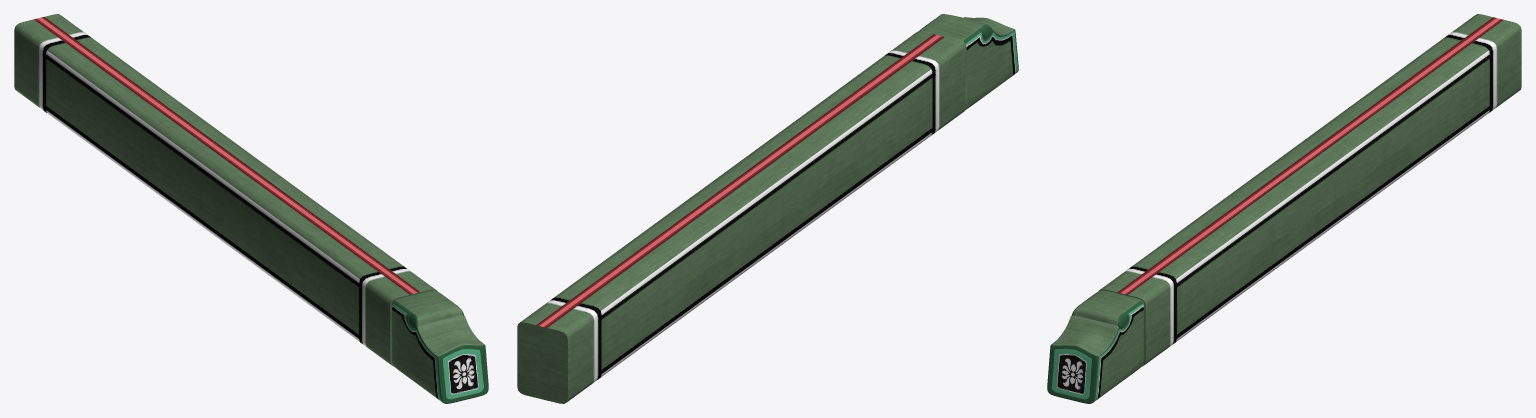
File: SM_SJJ_HG_Beam08A.fbx
3 views of the same model, side by side, from view 1: azimuth 30°, elevation 25°; view 2: azimuth 150°, elevation 25°; view 3: azimuth 330°, elevation 25° (orthographic). The views are drawn at different scales.
Parts seen in each view (by area): view 1: SM_SJJ_HG_Beam08A; view 2: SM_SJJ_HG_Beam08A; view 3: SM_SJJ_HG_Beam08A.
Part boxes in pixels (box(x1,y1,x2,y2)): SM_SJJ_HG_Beam08A: box(14, 14, 488, 403); SM_SJJ_HG_Beam08A: box(517, 14, 1018, 403); SM_SJJ_HG_Beam08A: box(1047, 14, 1521, 403).
Size of the model in its own units: 22.77 by 352 by 31.15.
1 material, 1 textured.
